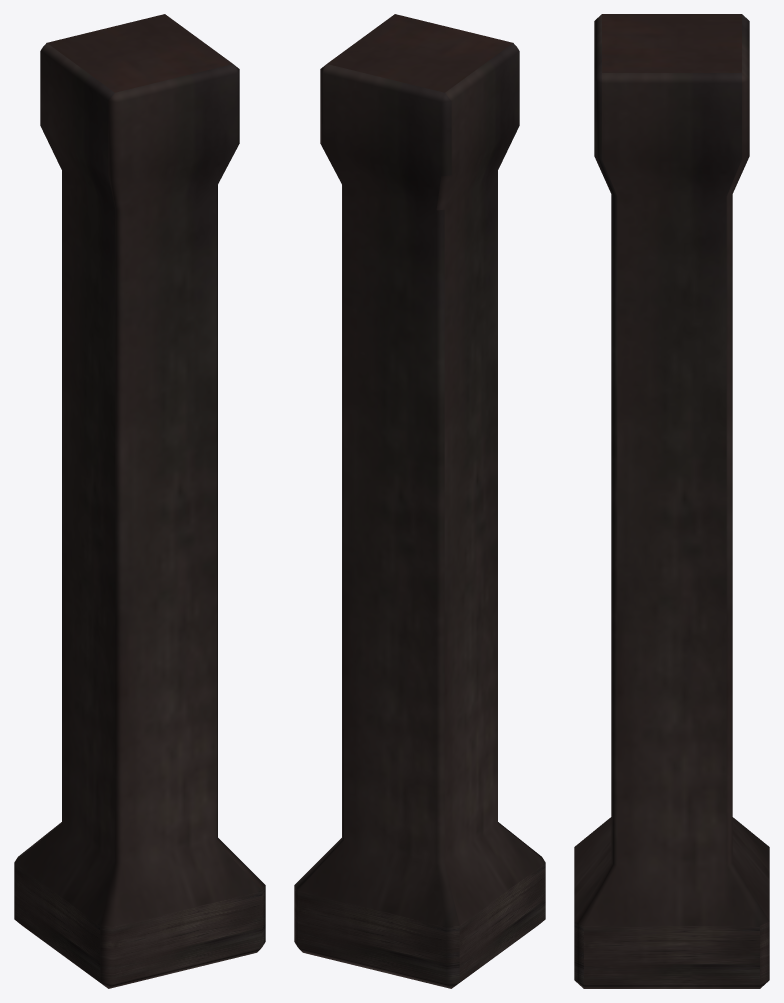
Rendered from Zabor_balka.fbx.
3 renders of one model, left to right at view 1: azimuth 30°, elevation 25°; view 2: azimuth 150°, elevation 25°; view 3: azimuth 270°, elevation 25°, orthographic. The views are drawn at different scales.
Parts seen in each view (by area): view 1: Zabor_peregorodka; view 2: Zabor_peregorodka; view 3: Zabor_peregorodka.
Part boxes in pixels (x1,y1,x2,y2): Zabor_peregorodka: [14, 14, 265, 988]; Zabor_peregorodka: [294, 14, 545, 988]; Zabor_peregorodka: [574, 14, 769, 988].
Bounding box in the file's own units: 19.51 × 99.95 × 19.51.
